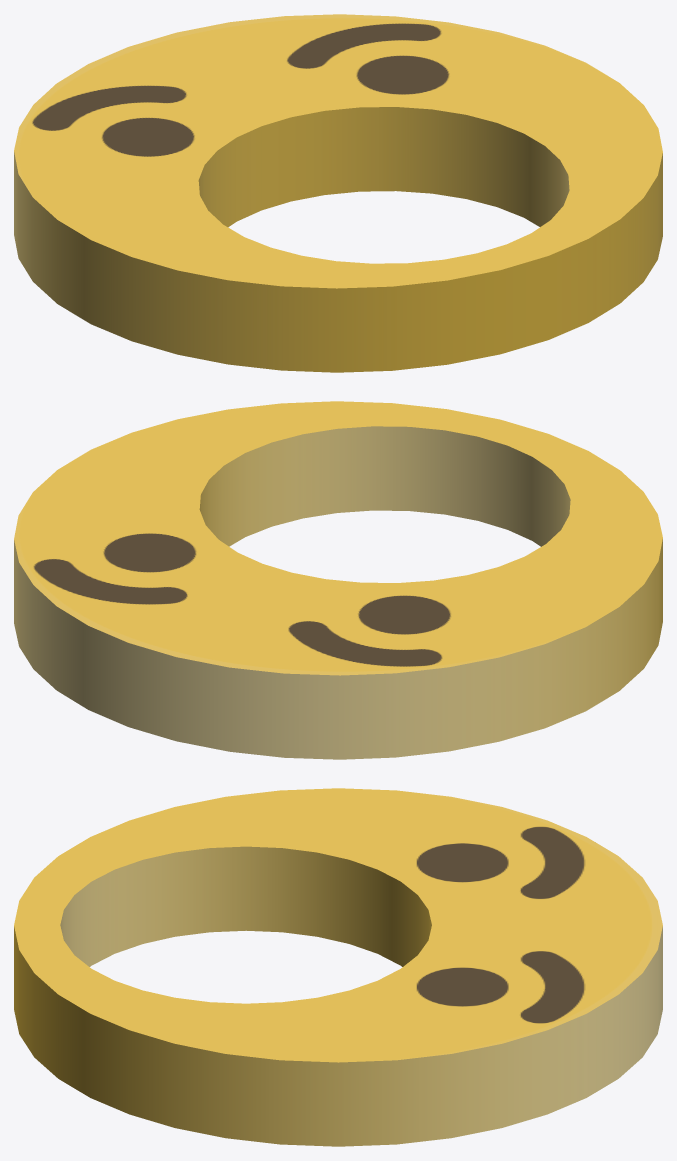
The model's file is smile.FBX.
3 renders of one model, top to bottom at view 1: azimuth 30°, elevation 25°; view 2: azimuth 150°, elevation 25°; view 3: azimuth 270°, elevation 25°, orthographic.
Parts seen in each view (by area): view 1: Smile; view 2: Smile; view 3: Smile.
Part boxes in pixels (x1=…): Smile: x1=14, y1=14, x2=662, y2=372; Smile: x1=14, y1=401, x2=662, y2=759; Smile: x1=14, y1=788, x2=662, y2=1146.
Size of the model in its own units: 48.88 by 7 by 48.88.
1 material, 1 textured.
